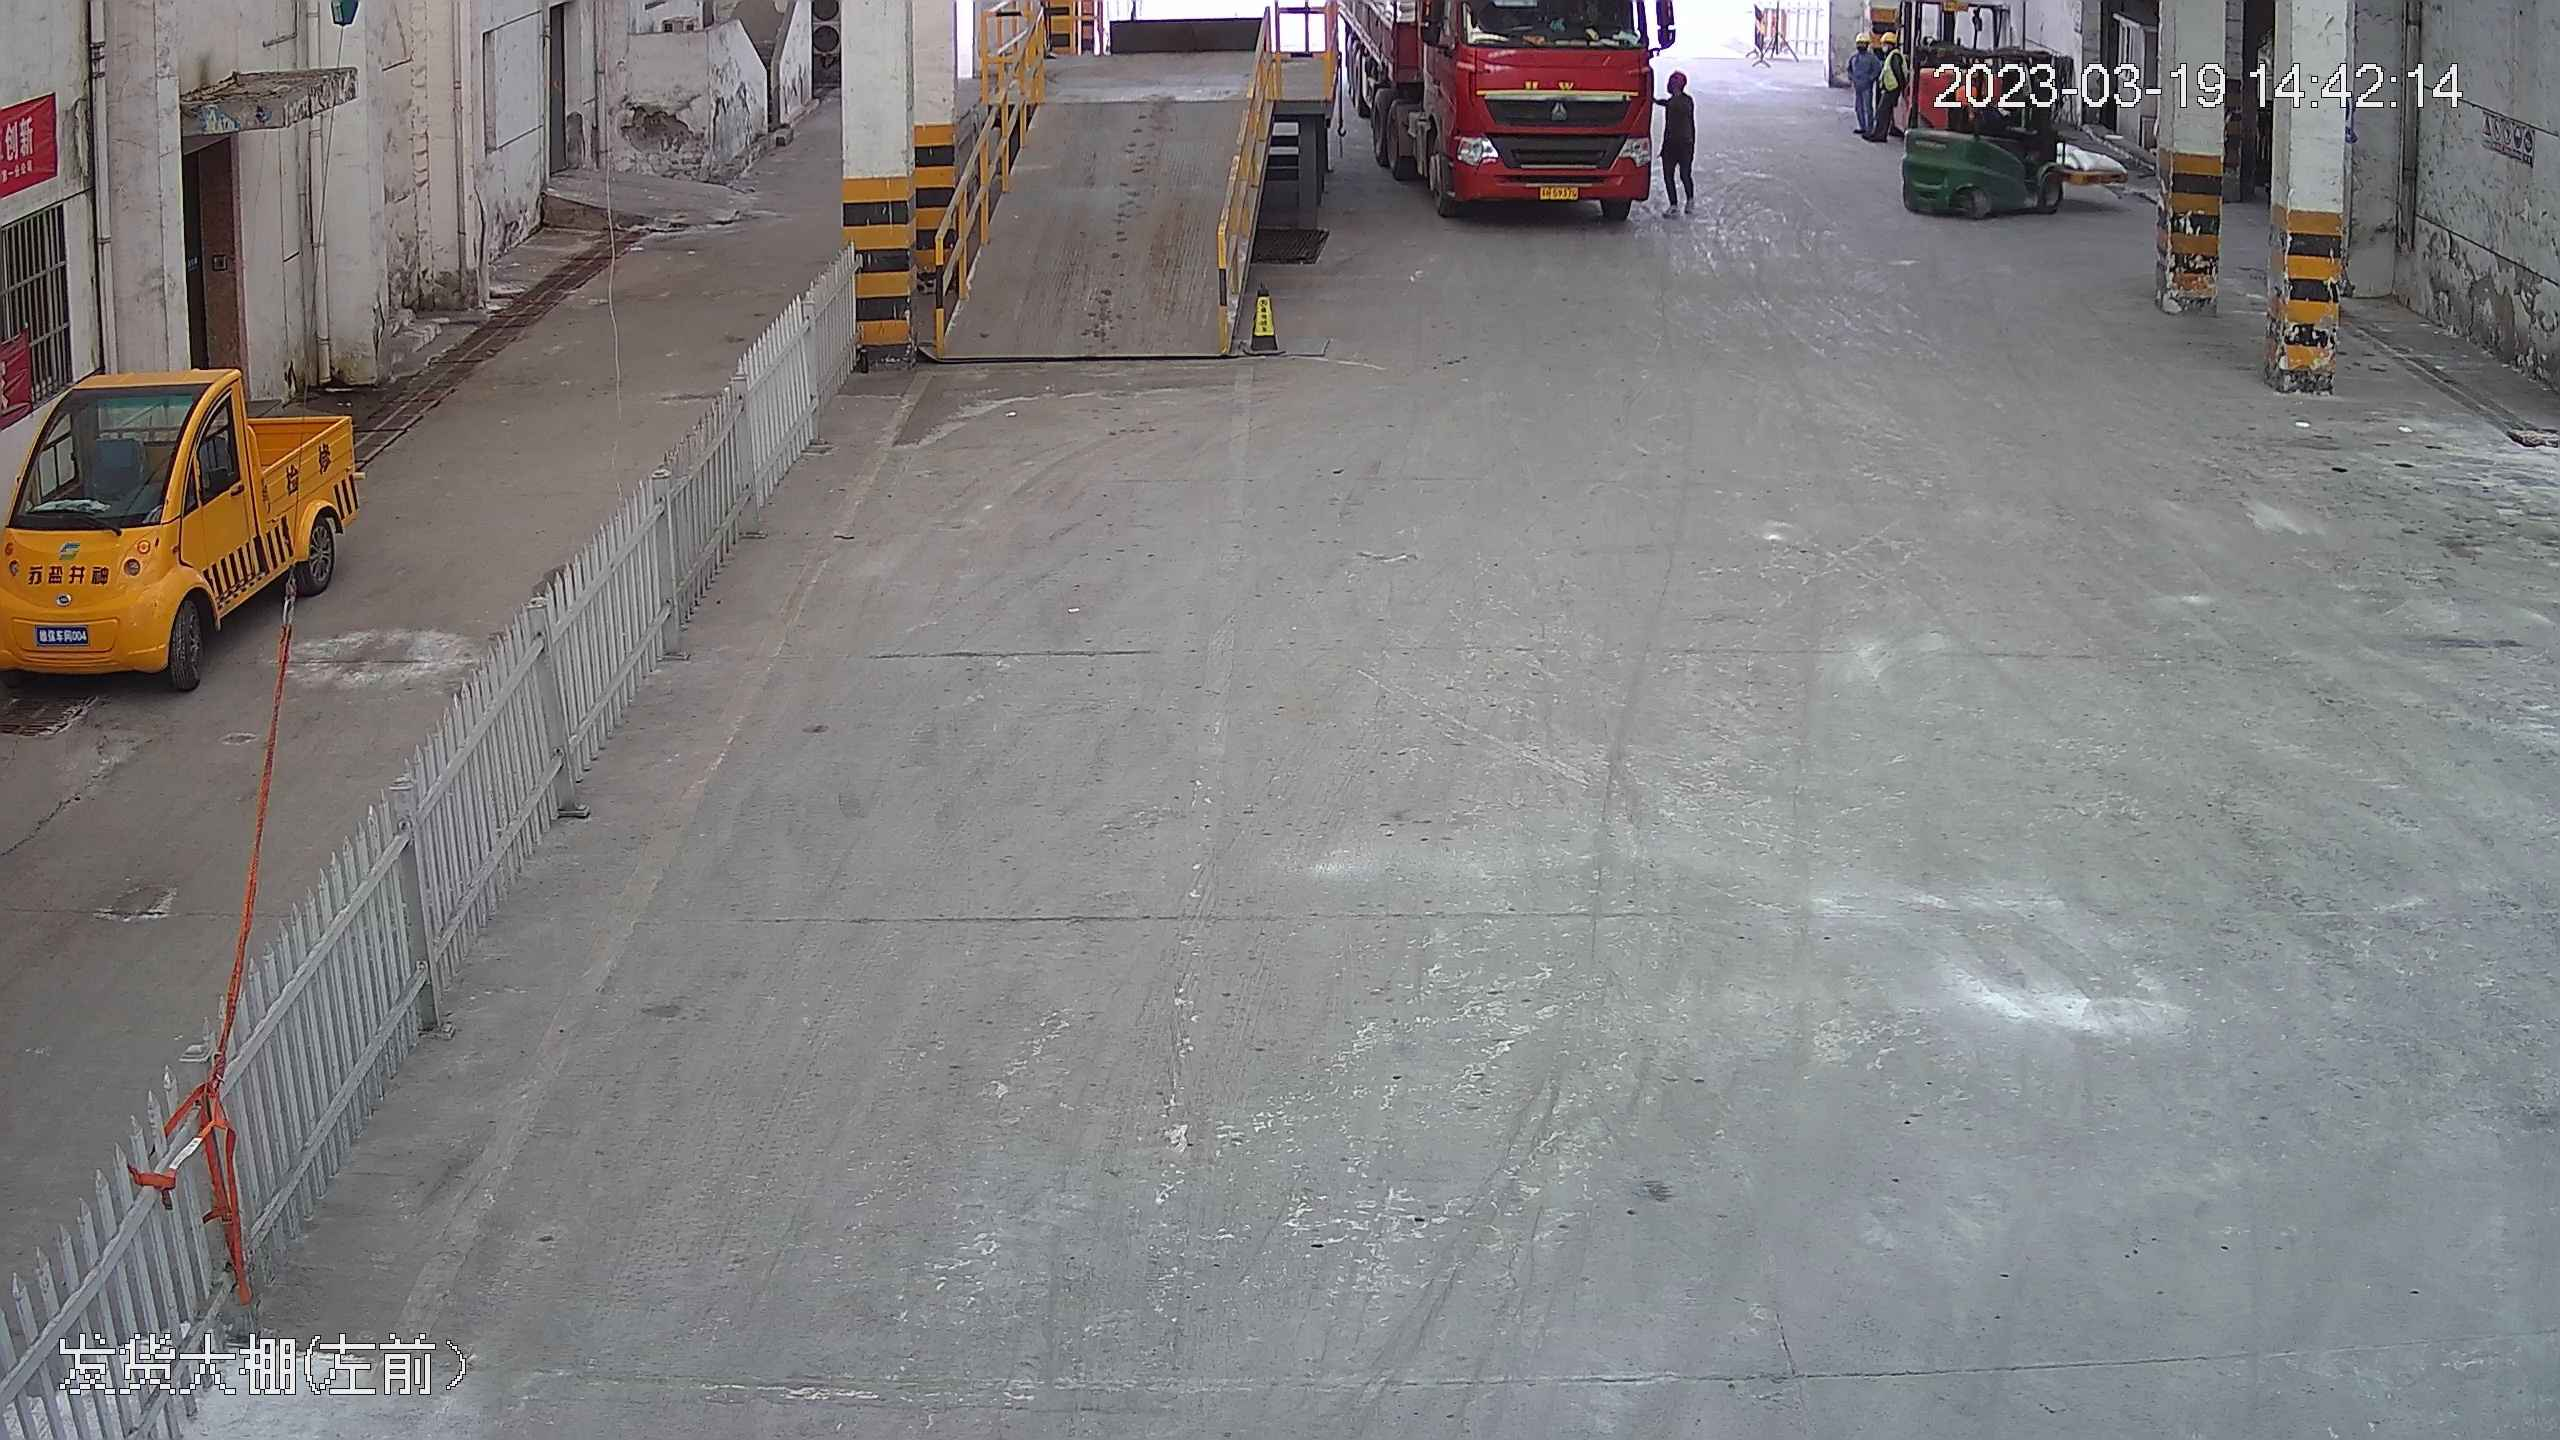head: (1659, 67, 1695, 110), (1848, 29, 1878, 69), (1878, 32, 1907, 72)
helmet: (1669, 67, 1690, 88), (1855, 31, 1873, 45), (1878, 32, 1895, 42)
people: (1658, 63, 1701, 208), (1876, 30, 1911, 143), (1847, 25, 1875, 135)
truck: (1327, 1, 1670, 220)
